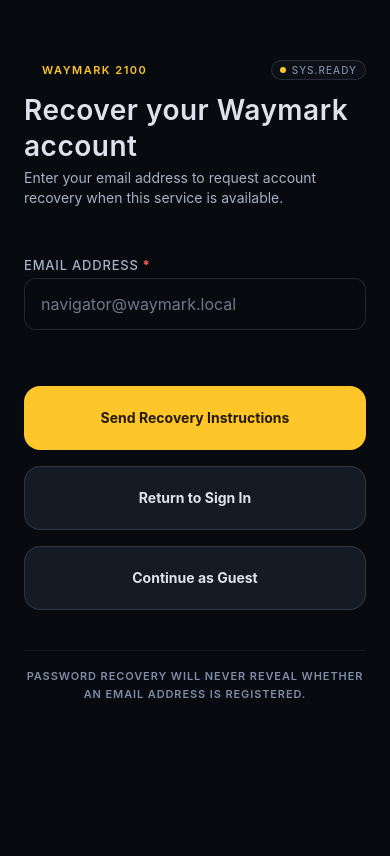
Test: Feature 04.2.3 — Password Recovery Screen & Flow › TC-04.2.3-17: shows enumeration-resistant confirmation notice upon submission
Type "pilot@waymark.local" into the field with test id "input-forgot-password-email-input" at (195, 304), box [41,284,349,324]
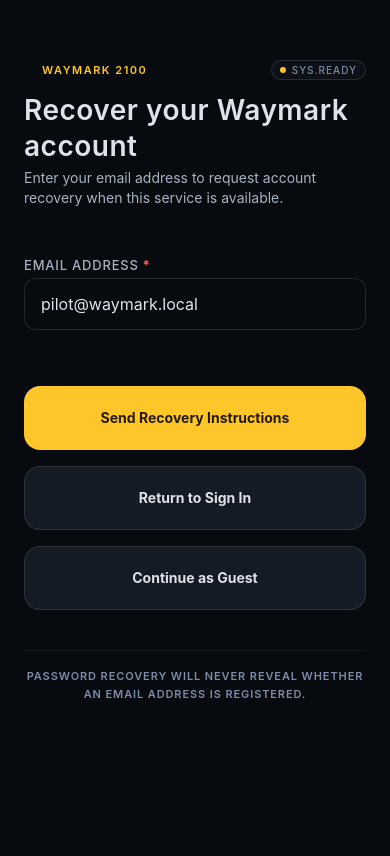
Click the button with test id "btn-submit-forgot-password" at (195, 418), box [24,386,366,450]
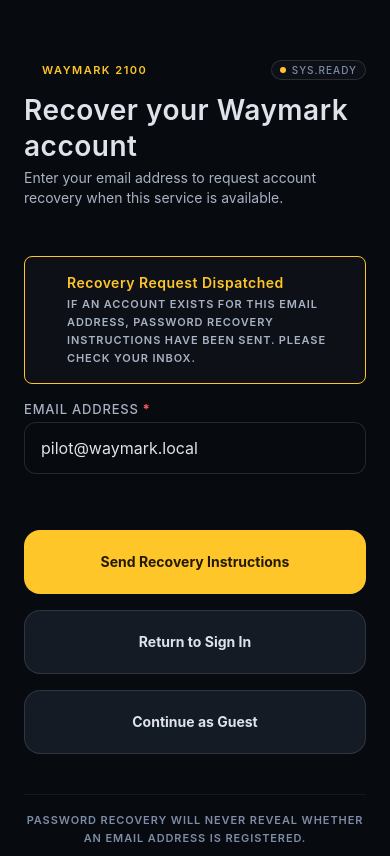
Expected: the element with test id "forgot-password-success-notice" is shown, [24,256,366,384]
Expected: the text "If an account exists for this email address, password recovery instructions have been sent" is shown, [67,297,330,365]
